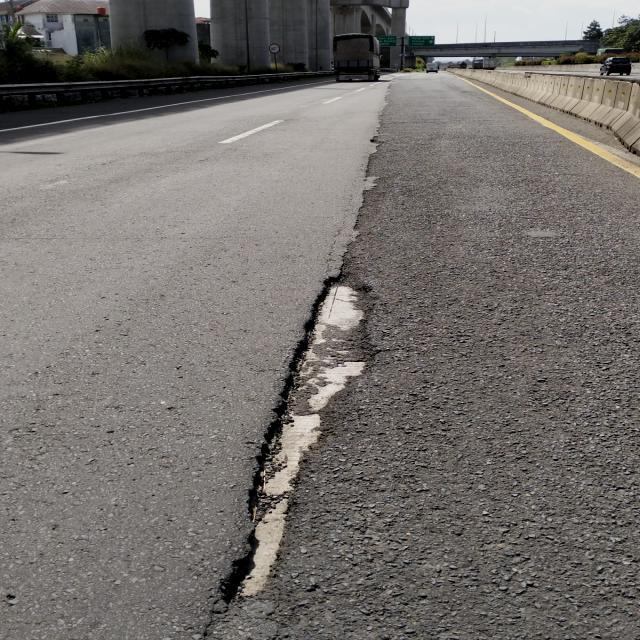Buraco: (213, 269, 386, 608)
